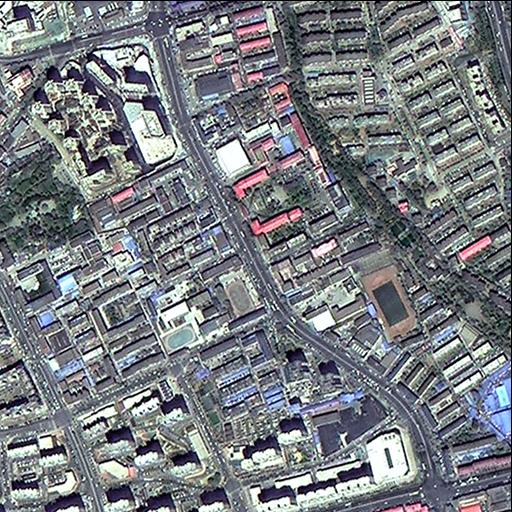school: (281, 261, 430, 341), (152, 296, 202, 358)
